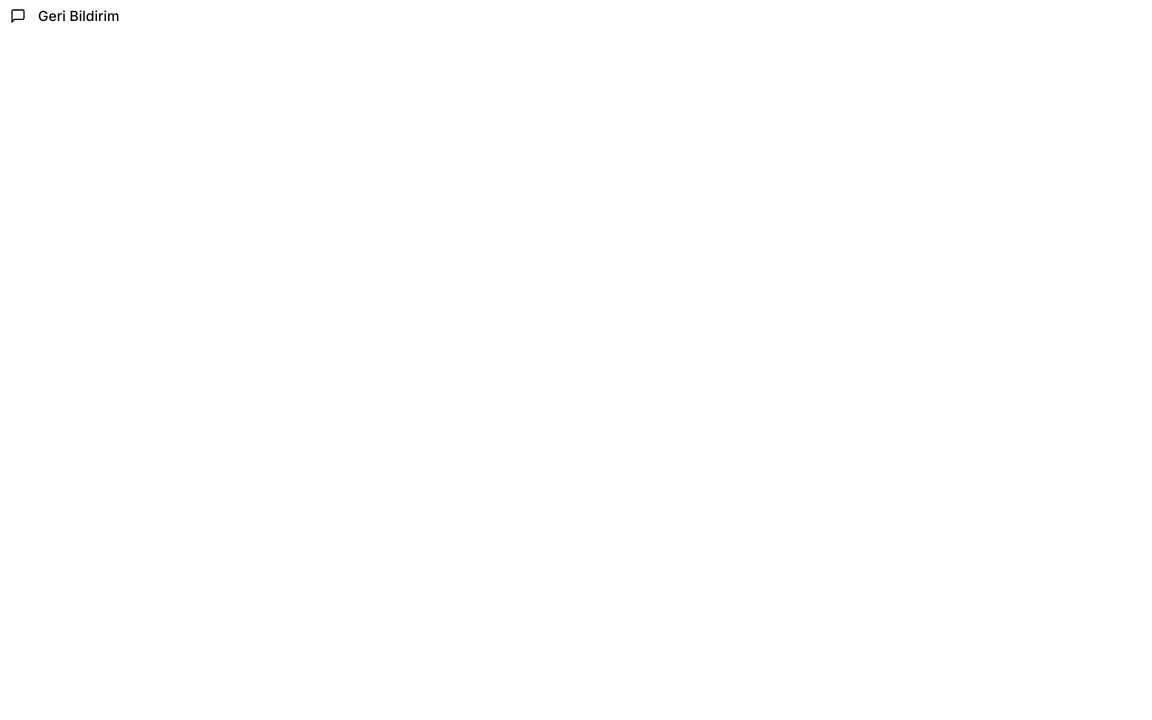
it: Feedback Modal › renders and opens modal
Click the button "Geri Bildirim".
click(79, 16)  # box [0,0,1151,32]
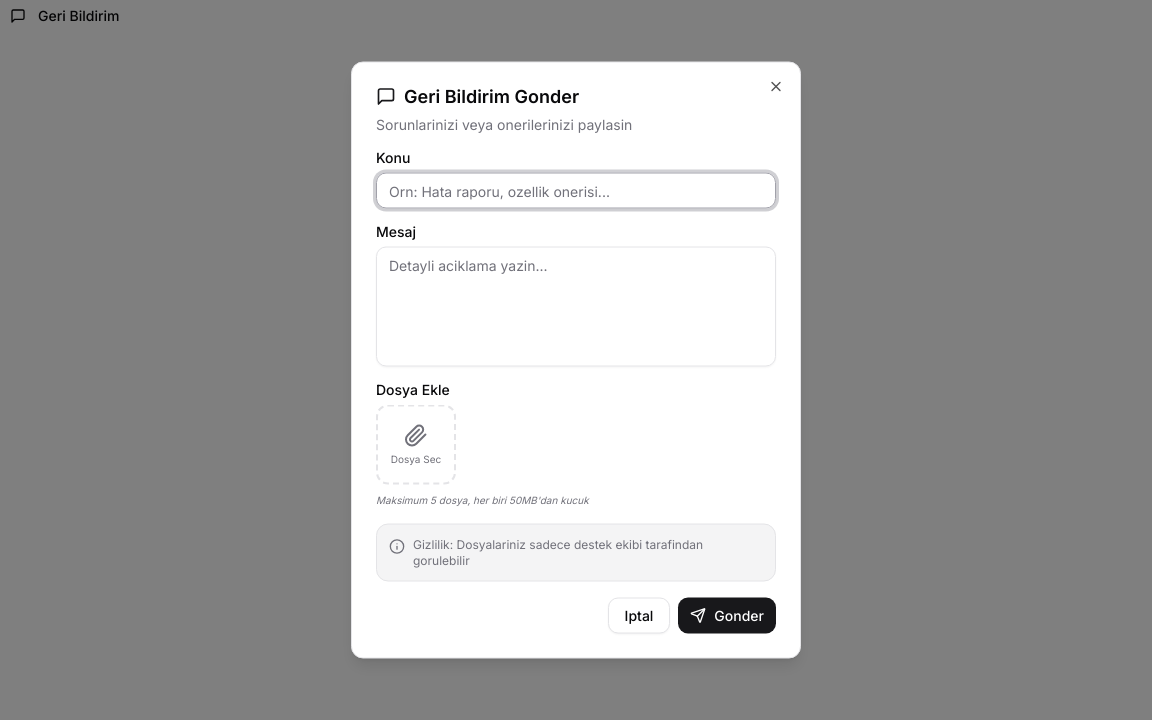
Now the heading "Geri Bildirim Gonder" is shown, box [376,86,579,106]
